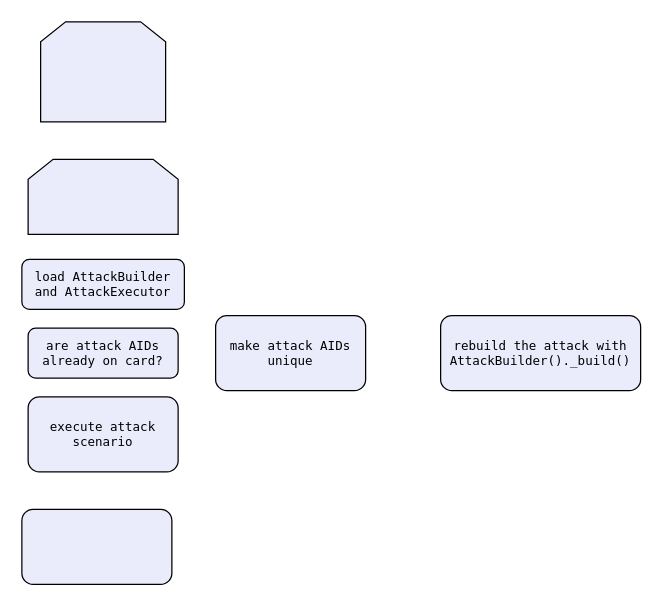
Some shapes in this 663 by 606 pixel diagram are drawn without their labels. Each missing label, with the centre of its shape:
for each attack: pixel 102 71
for each SDK version from attack/config.ini: pixel 102 196
